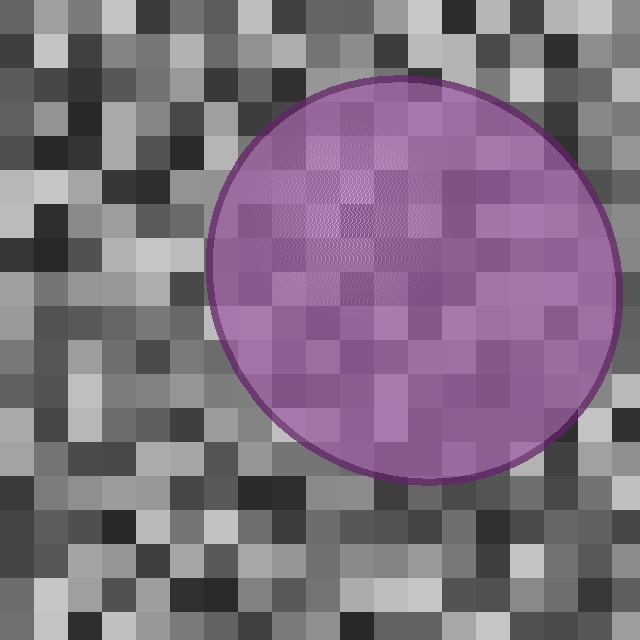lens: (210, 79, 618, 481)
